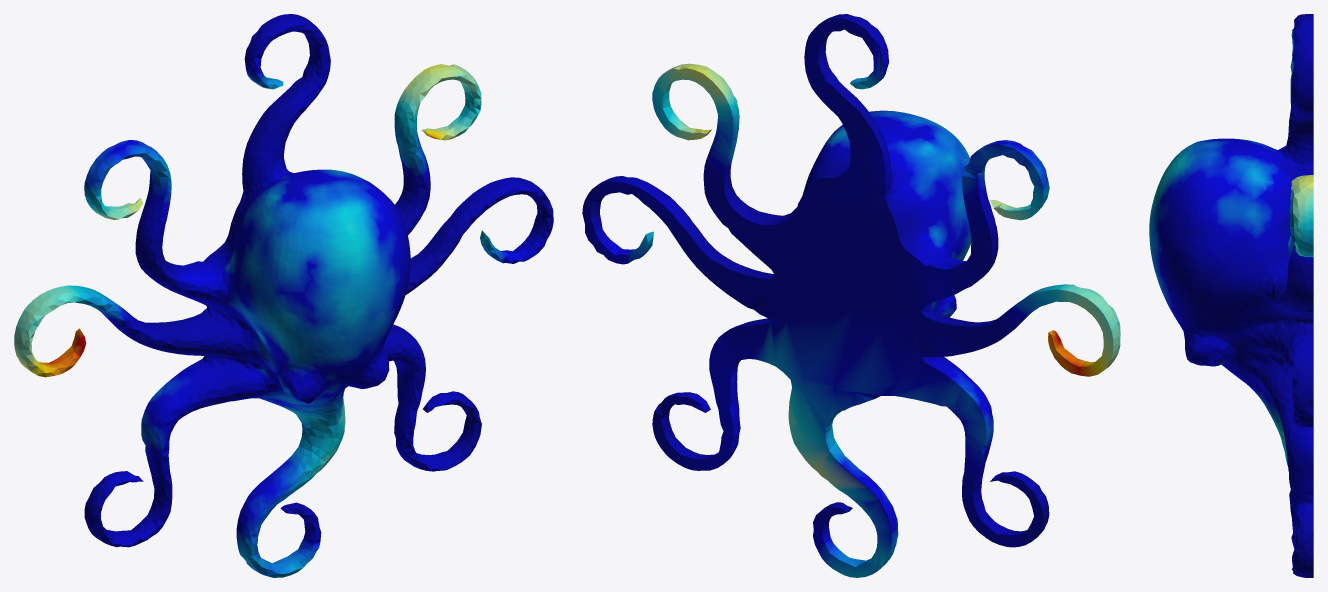
File: octopus_error_poisson.glb
3 renders of one model, left to right at view 1: azimuth 30°, elevation 25°; view 2: azimuth 150°, elevation 25°; view 3: azimuth 270°, elevation 25°, orthographic.
Parts seen in each view (by area): view 1: octopus_smooth.obj; view 2: octopus_smooth.obj; view 3: octopus_smooth.obj.
Part boxes in pixels (x1,y1,x2,y2): octopus_smooth.obj: (14, 14, 553, 577); octopus_smooth.obj: (582, 14, 1120, 577); octopus_smooth.obj: (1149, 14, 1313, 577).
Size of the model in its own units: 1.92 by 1.92 by 0.5226.
